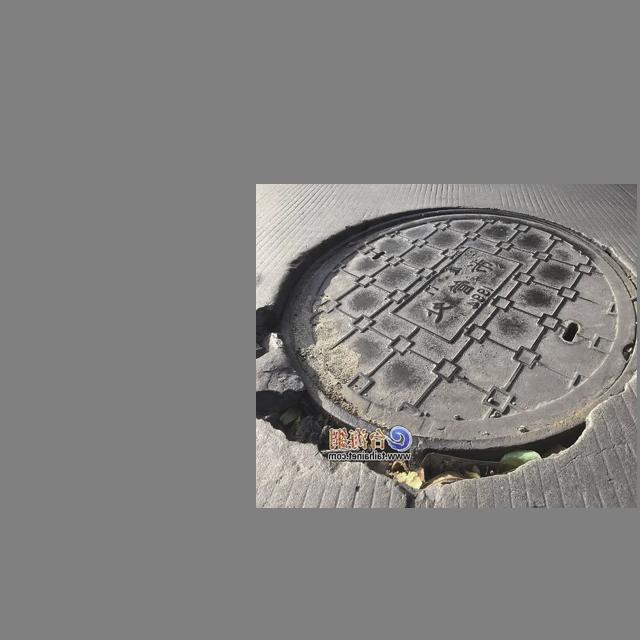circle: (264, 204, 628, 493)
